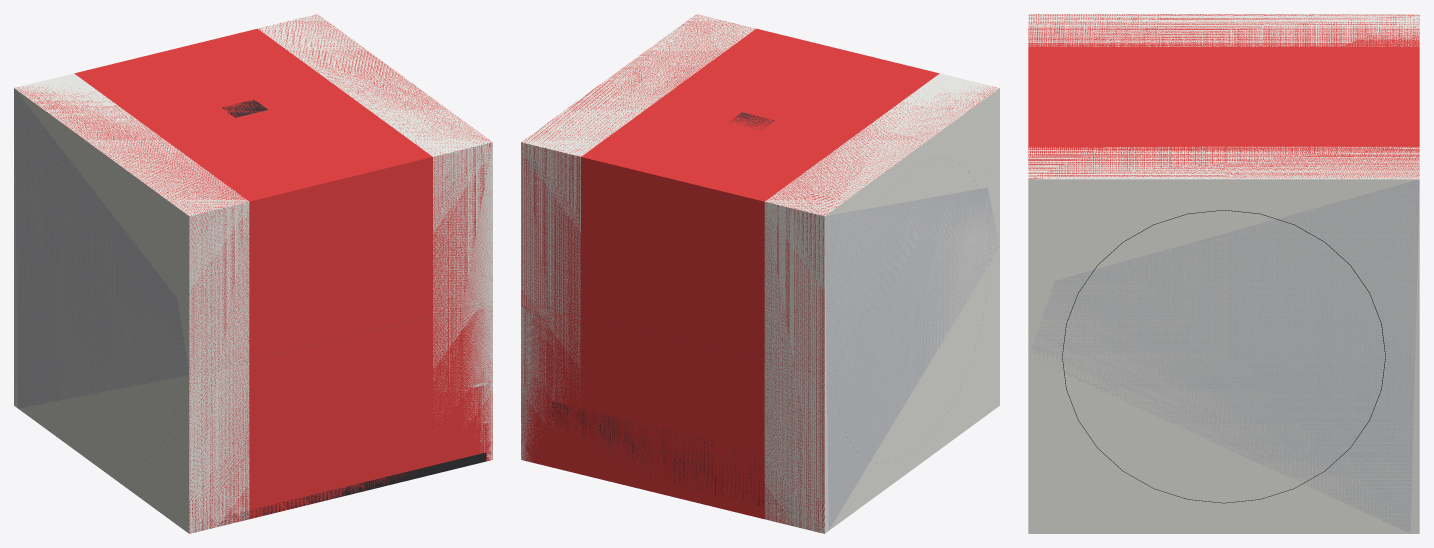
The picture shows the model from 3 angles, left to right: view 1: azimuth 30°, elevation 25°; view 2: azimuth 150°, elevation 25°; view 3: azimuth 270°, elevation 25°; orthographic projection. The views are drawn at different scales.
Parts seen in each view (by area): view 1: gt_tail, gt_head, gt_fin, gt_trim; view 2: gt_tail, gt_head, gt_fin, gt_trim; view 3: gt_head, gt_fin, gt_tail, gt_tyre_FL, gt_tyre_RL.
Boxes of the visible parts, x1,y1,x2,y2 form: gt_tail: (15, 14, 492, 533); gt_head: (14, 14, 492, 533); gt_fin: (14, 88, 189, 408); gt_trim: (196, 100, 486, 531); gt_tail: (521, 14, 998, 533); gt_head: (521, 14, 999, 533); gt_fin: (824, 187, 999, 530); gt_trim: (552, 112, 787, 511); gt_head: (1028, 14, 1419, 533); gt_fin: (1029, 180, 1419, 533); gt_tail: (1028, 14, 1419, 179); gt_tyre_FL: (1062, 210, 1248, 503); gt_tyre_RL: (1224, 210, 1385, 503).
Size of the model in its own units: 65536 by 65534 by 65537.
